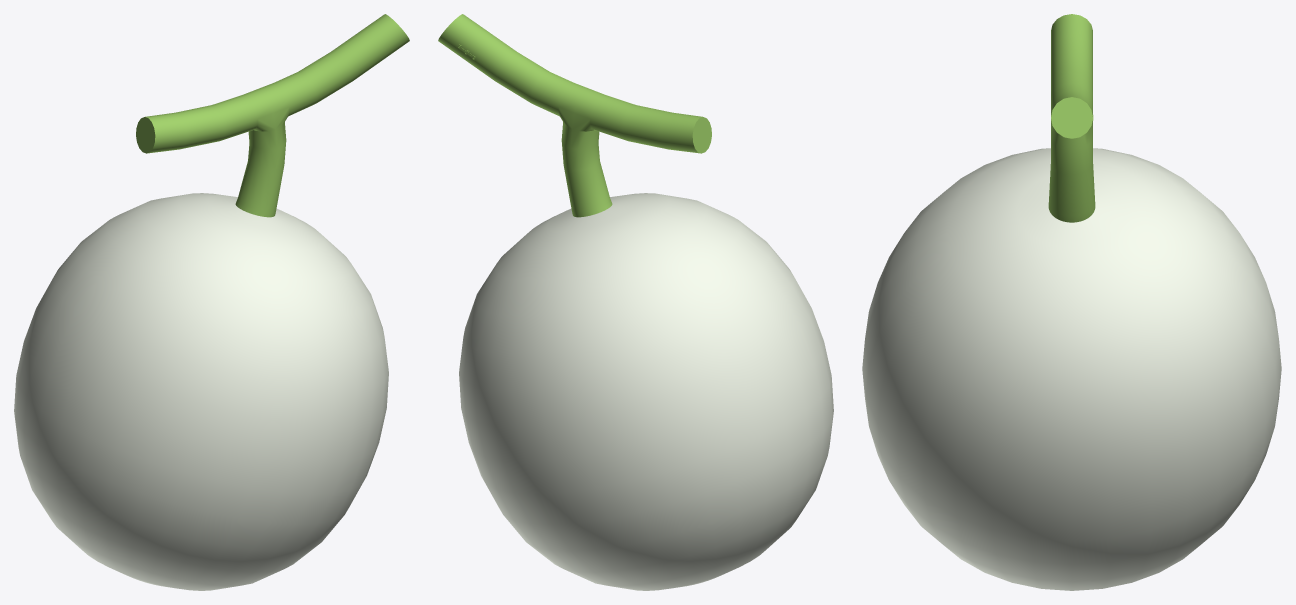
The model's file is melon.gltf.
The picture shows the model from 3 angles, left to right: view 1: azimuth 30°, elevation 25°; view 2: azimuth 150°, elevation 25°; view 3: azimuth 270°, elevation 25°; orthographic projection. The views are drawn at different scales.
Parts seen in each view (by area): view 1: Sphere.004; view 2: Sphere.004; view 3: Sphere.004.
Part boxes in pixels (<box>): Sphere.004: <box>14,14,409,590</box>; Sphere.004: <box>438,14,833,590</box>; Sphere.004: <box>862,14,1281,590</box>.
Bounding box in the file's own units: 1.65 × 2.19 × 1.44.
Materials: 1 (1 with a texture image).
